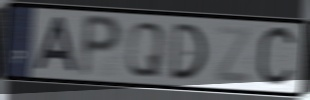A: (33, 15, 79, 75)
C: (255, 23, 299, 92)
D: (168, 21, 209, 81)
P: (78, 12, 125, 80)
Q: (124, 20, 168, 79)
Z: (213, 24, 254, 87)
